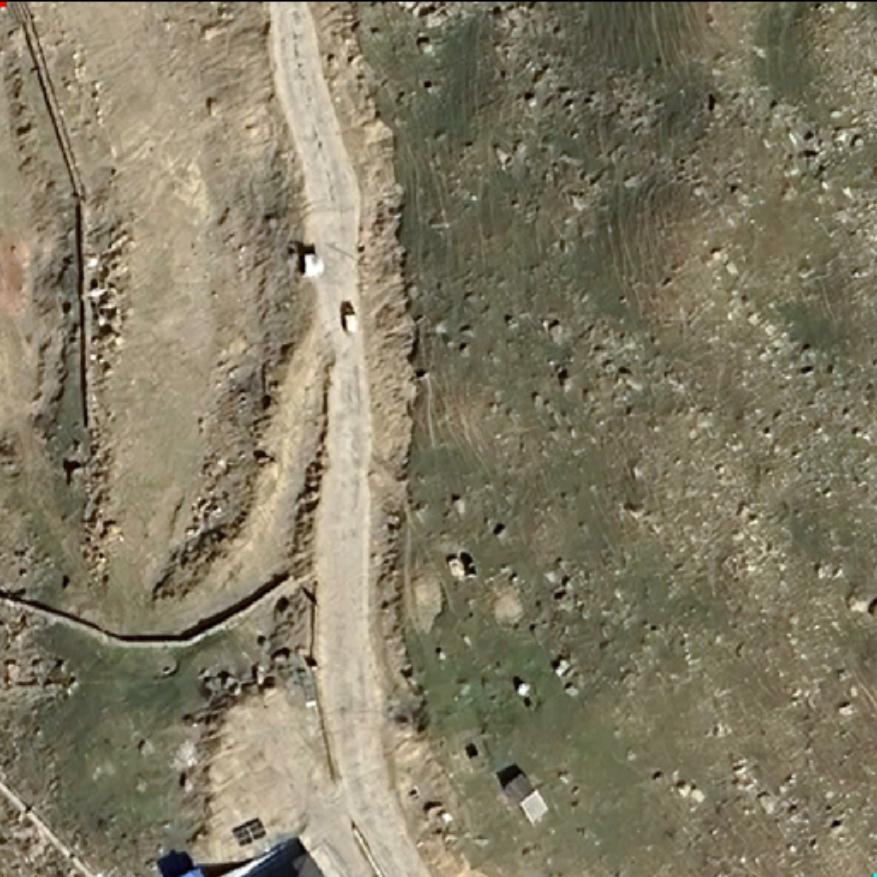Solarpanel: (228, 814, 270, 850)
